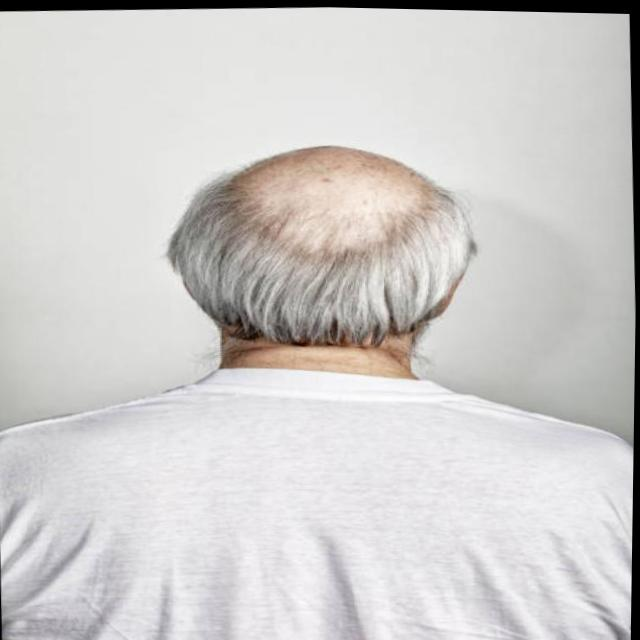no helmet: (170, 127, 471, 380)
